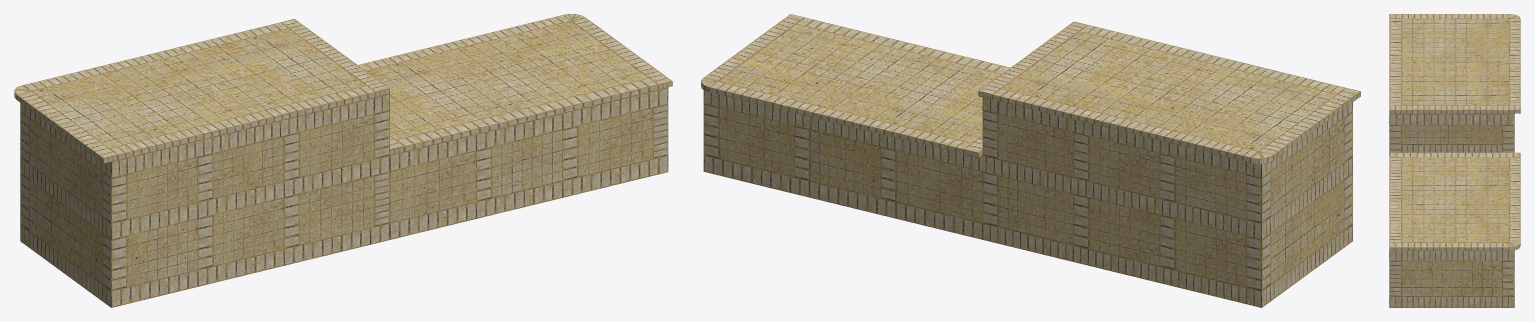
The model's file is tutorial_structure_block02.dae.
3 renders of one model, left to right at view 1: azimuth 30°, elevation 25°; view 2: azimuth 150°, elevation 25°; view 3: azimuth 270°, elevation 25°, orthographic. The views are drawn at different scales.
Visible parts, largest first — view 1: tutorial_structure_block02; view 2: tutorial_structure_block02; view 3: tutorial_structure_block02.
Boxes of the visible parts, left/top/right/bottom form: tutorial_structure_block02: left=14, top=14, right=672, bottom=307; tutorial_structure_block02: left=701, top=14, right=1360, bottom=307; tutorial_structure_block02: left=1389, top=14, right=1520, bottom=307.
Size of the model in its own units: 27.07 by 7.85 by 6.88.
Materials: 3 (3 with a texture image).
